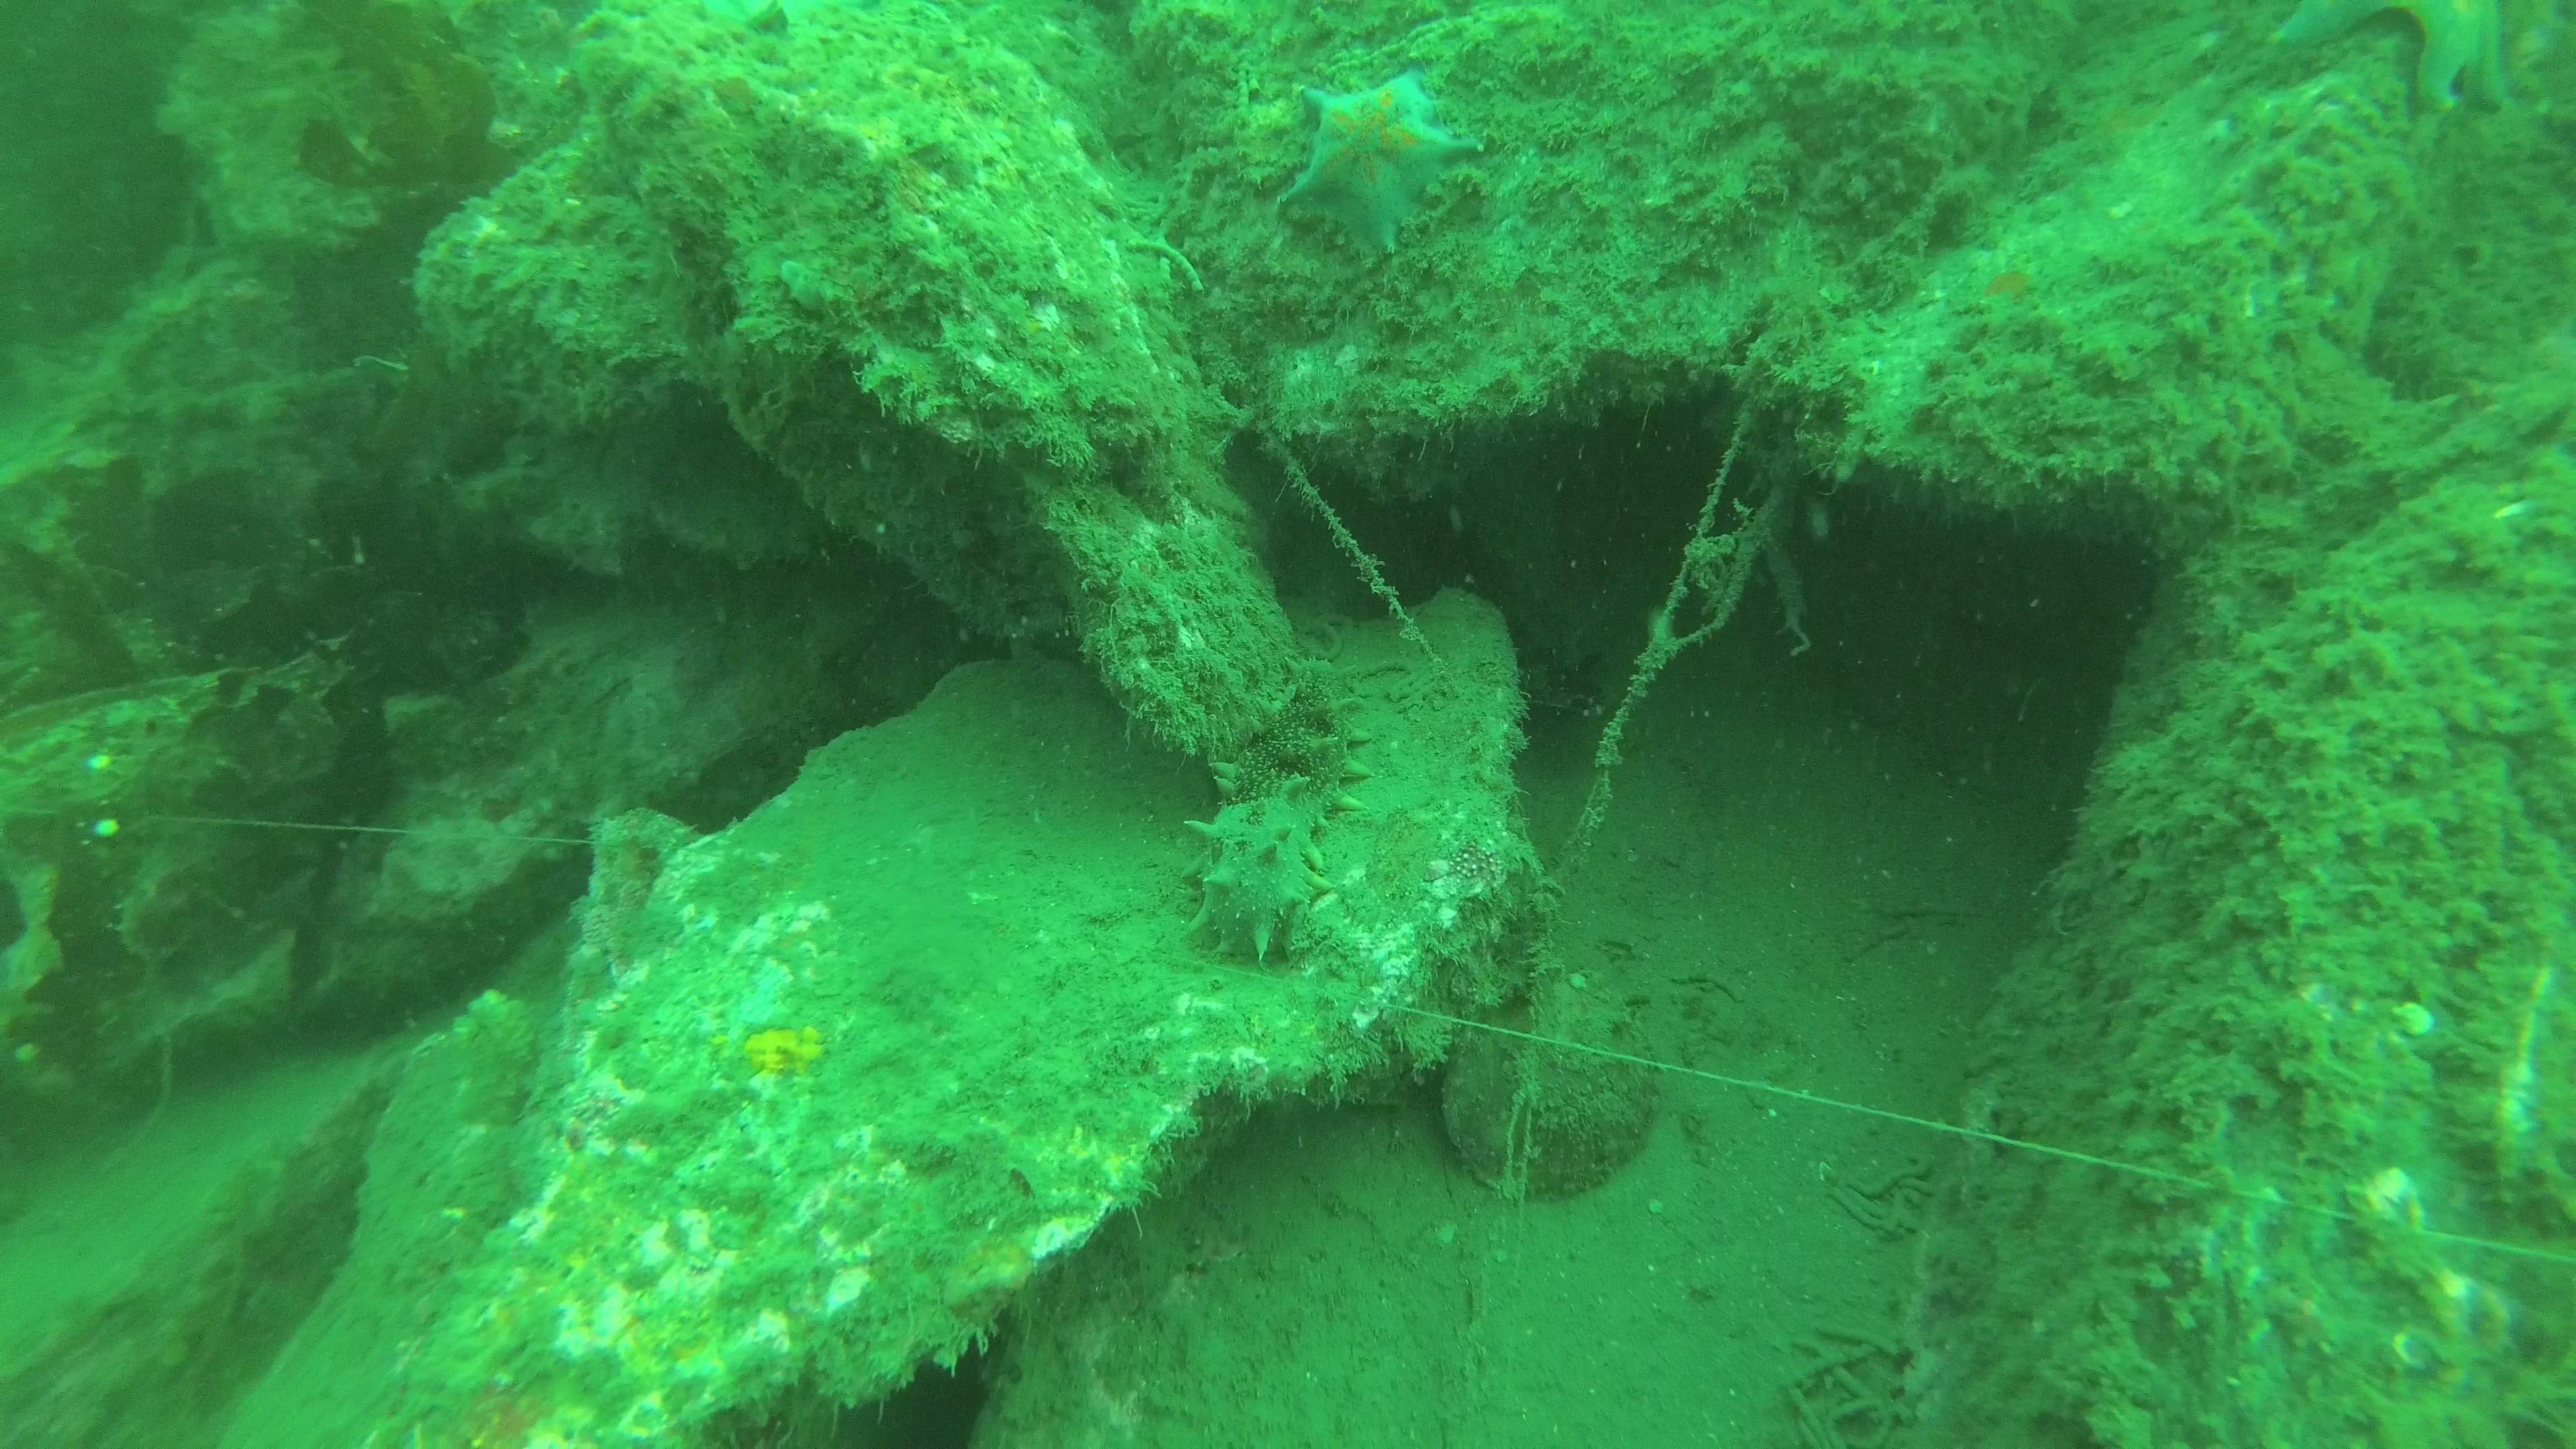holothurian: (1173, 639, 1376, 961)
starfish: (1279, 64, 1488, 260), (2250, 0, 2526, 111)
